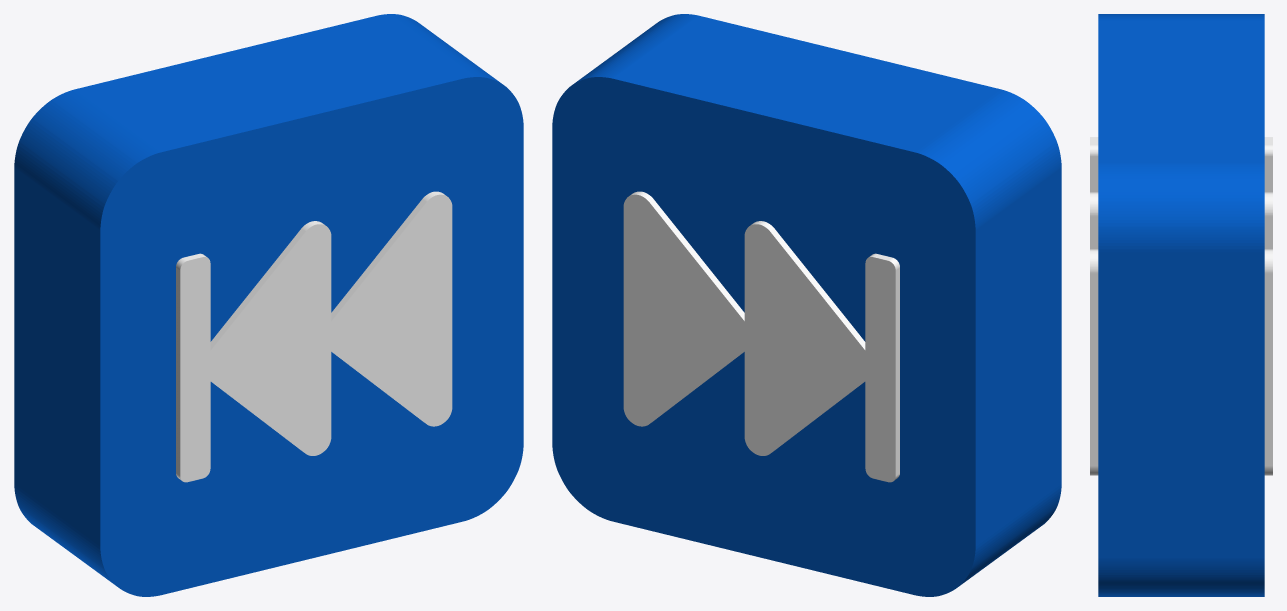
3 renders of one model, left to right at view 1: azimuth 30°, elevation 25°; view 2: azimuth 150°, elevation 25°; view 3: azimuth 270°, elevation 25°, orthographic. The views are drawn at different scales.
Parts seen in each view (by area): view 1: U+23EE_layer00_obj00, U+23EE_layer01_obj00; view 2: U+23EE_layer00_obj00, U+23EE_layer01_obj00; view 3: U+23EE_layer00_obj00, U+23EE_layer01_obj00.
Boxes of the visible parts, x1,y1,x2,y2 form: U+23EE_layer00_obj00: (14, 14, 523, 596); U+23EE_layer01_obj00: (176, 191, 452, 482); U+23EE_layer00_obj00: (552, 14, 1061, 596); U+23EE_layer01_obj00: (623, 191, 899, 482); U+23EE_layer00_obj00: (1098, 14, 1264, 596); U+23EE_layer01_obj00: (1090, 137, 1272, 475).
Bounding box in the file's own units: 0.5678 × 0.5677 × 0.22.
